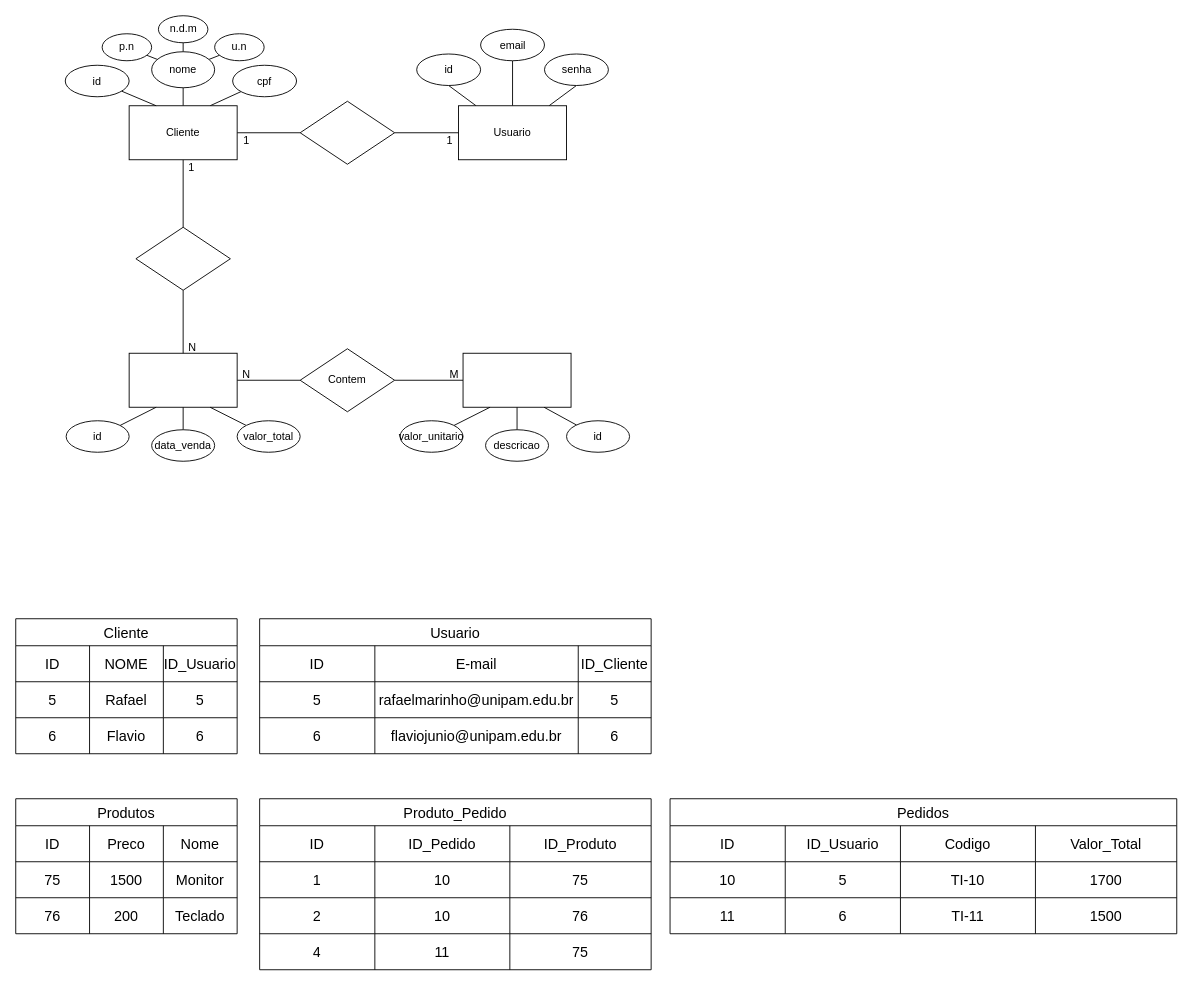
This 1193x986 diagram has some shape labels left out. The shapes that lost their labels are listed below. From the top down, each one's centre as x and y in pixels, then its label:
At [347,132]: "Possui".
At [182,258]: "Realiza".
At [182,379]: "Pedido".
At [516,379]: "Produto".
